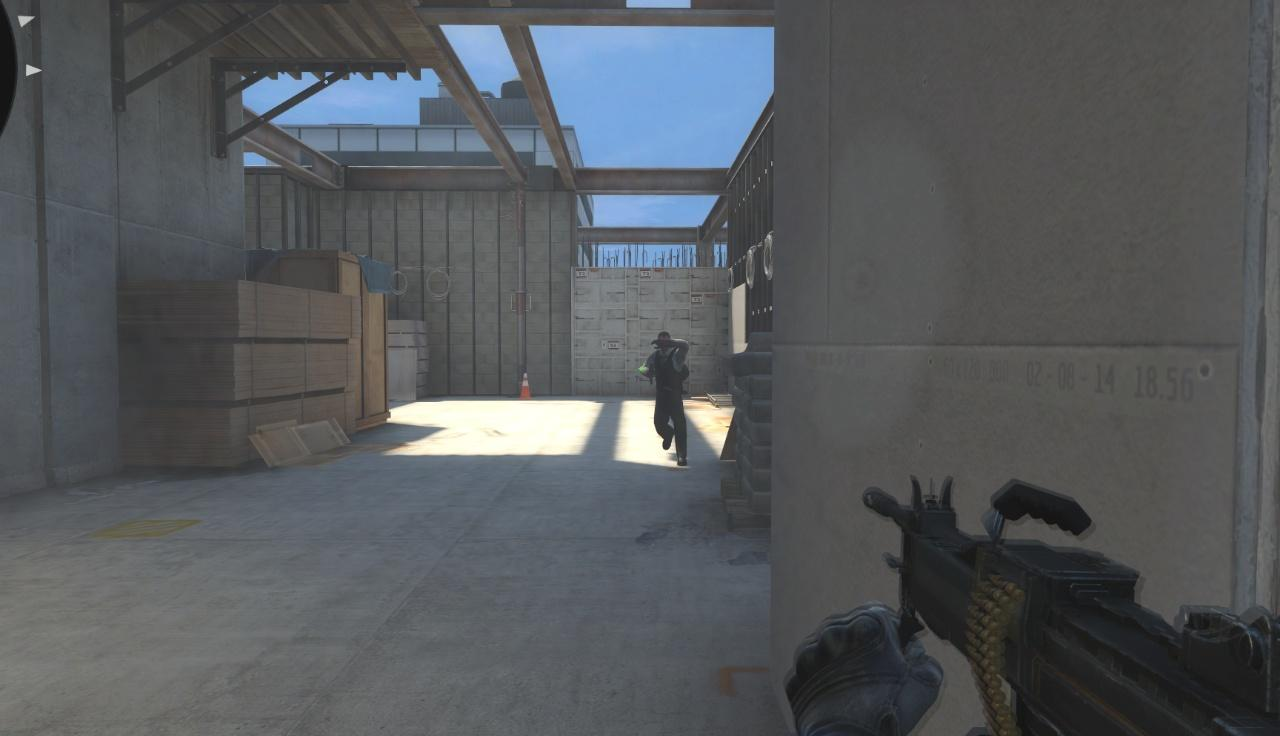rifle: (854, 473, 1280, 736)
tt: (641, 332, 690, 464)
tthead: (657, 331, 672, 351)
